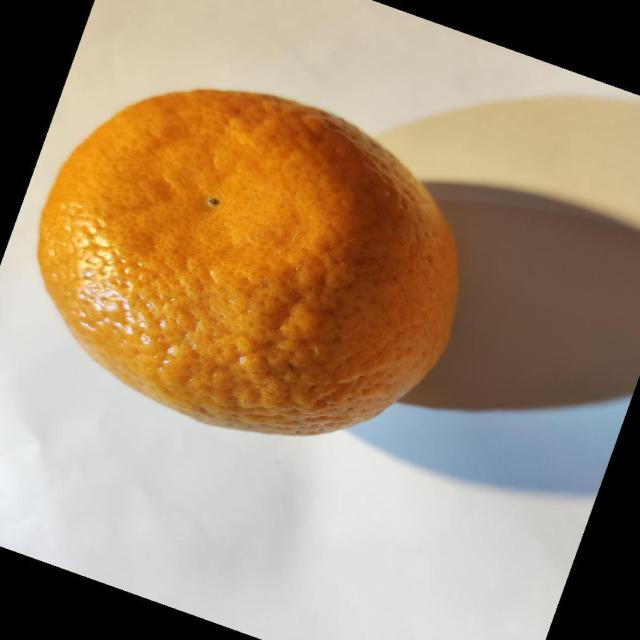fresh orange: (36, 86, 460, 436)
